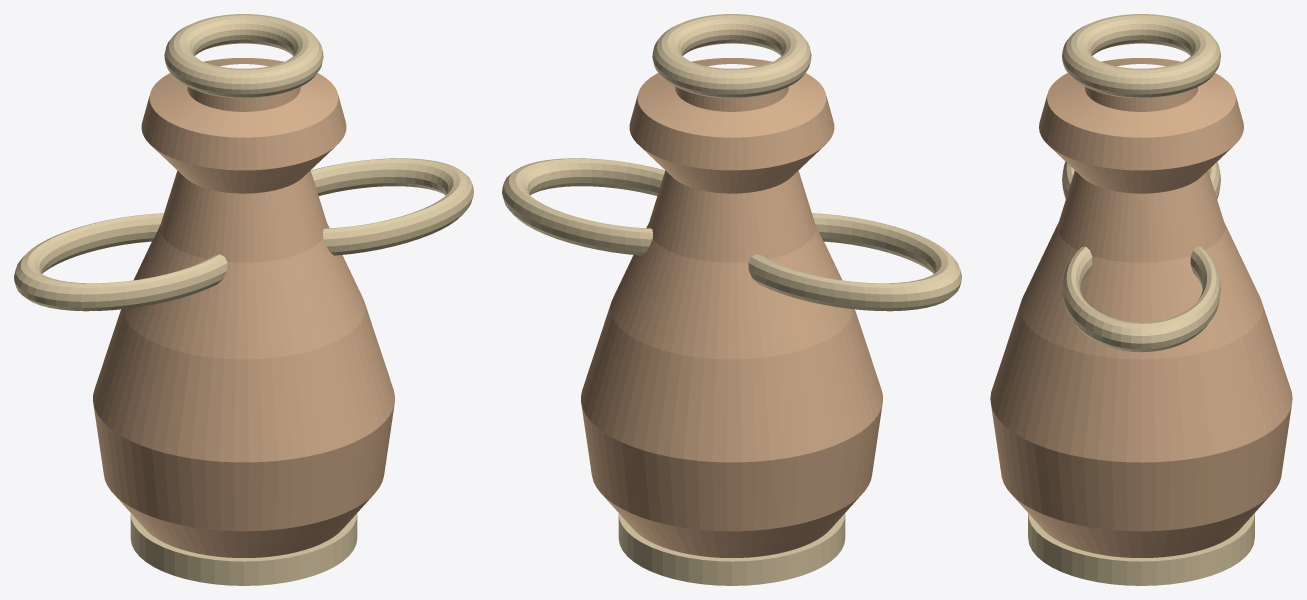
File: amphora-vessel.glb
3 views of the same model, side by side, from view 1: azimuth 30°, elevation 25°; view 2: azimuth 150°, elevation 25°; view 3: azimuth 270°, elevation 25° (orthographic).
Visible parts, largest first — view 1: amphora-vessel-0, amphora-vessel-3, amphora-vessel-1, amphora-vessel-4, amphora-vessel-2; view 2: amphora-vessel-0, amphora-vessel-3, amphora-vessel-1, amphora-vessel-4, amphora-vessel-2; view 3: amphora-vessel-0, amphora-vessel-1, amphora-vessel-2, amphora-vessel-4, amphora-vessel-3.
Part boxes in pixels (<box>): amphora-vessel-0: <box>93,58,394,557</box>; amphora-vessel-3: <box>14,213,227,311</box>; amphora-vessel-1: <box>164,14,323,98</box>; amphora-vessel-4: <box>310,158,473,255</box>; amphora-vessel-2: <box>130,513,357,585</box>; amphora-vessel-0: <box>581,58,882,557</box>; amphora-vessel-3: <box>748,213,961,311</box>; amphora-vessel-1: <box>652,14,811,98</box>; amphora-vessel-4: <box>502,158,665,255</box>; amphora-vessel-2: <box>618,513,845,585</box>; amphora-vessel-0: <box>990,58,1292,557</box>; amphora-vessel-1: <box>1062,14,1220,98</box>; amphora-vessel-2: <box>1028,513,1254,585</box>; amphora-vessel-4: <box>1062,246,1220,352</box>; amphora-vessel-3: <box>1062,161,1220,199</box>.
Bounding box in the file's own units: 1.91 × 2.03 × 1.12.
